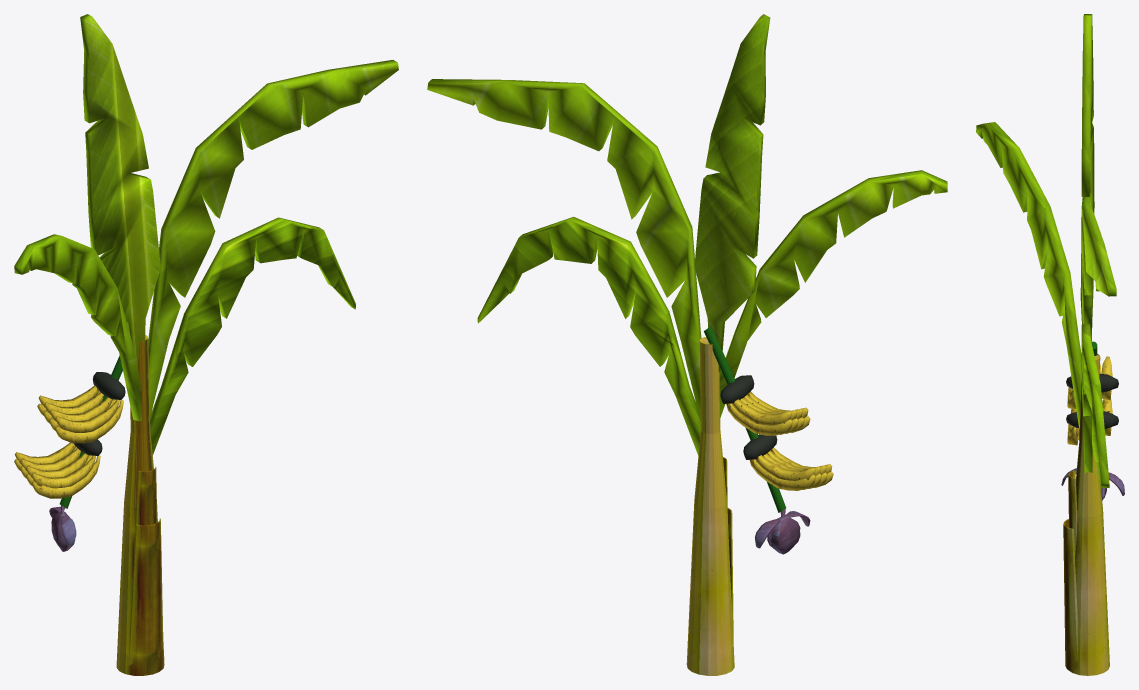
Rendered from Bananeira.fbx.
The picture shows the model from 3 angles, left to right: view 1: azimuth 30°, elevation 25°; view 2: azimuth 150°, elevation 25°; view 3: azimuth 270°, elevation 25°; orthographic projection. The views are drawn at different scales.
Visible parts, largest first — view 1: Folhas, CauleBananeira, PencaBananas.003, PencaBananas.001, PencaBananas.002, PencaBananas, Umbigo, Haste.001; view 2: Folhas, CauleBananeira, Umbigo, PencaBananas.003, PencaBananas.001, PencaBananas.002, PencaBananas, HasteCacho; view 3: Folhas, CauleBananeira, Haste, Haste.001, Umbigo, PencaBananas.
Boxes of the visible parts, box(x1,y1,x2,y2) form: Folhas: box(14, 14, 398, 455); CauleBananeira: box(116, 335, 164, 675); PencaBananas.003: box(38, 385, 119, 432); PencaBananas.001: box(14, 442, 95, 488); PencaBananas.002: box(37, 391, 123, 443); PencaBananas: box(14, 447, 100, 498); Umbigo: box(49, 505, 76, 551); Haste.001: box(92, 372, 125, 399); Folhas: box(427, 14, 947, 455); CauleBananeira: box(686, 337, 734, 675); Umbigo: box(755, 509, 810, 554); PencaBananas.003: box(732, 391, 808, 425); PencaBananas.001: box(755, 447, 832, 480); PencaBananas.002: box(726, 403, 810, 435); PencaBananas: box(749, 459, 833, 490); HasteCacho: box(704, 326, 785, 512); Folhas: box(976, 14, 1116, 487); CauleBananeira: box(1063, 354, 1109, 675); Haste: box(1066, 411, 1118, 428); Haste.001: box(1066, 373, 1118, 392); Umbigo: box(1061, 468, 1124, 500); PencaBananas: box(1067, 408, 1112, 445).
Size of the model in its own units: 450 by 632 by 136.
